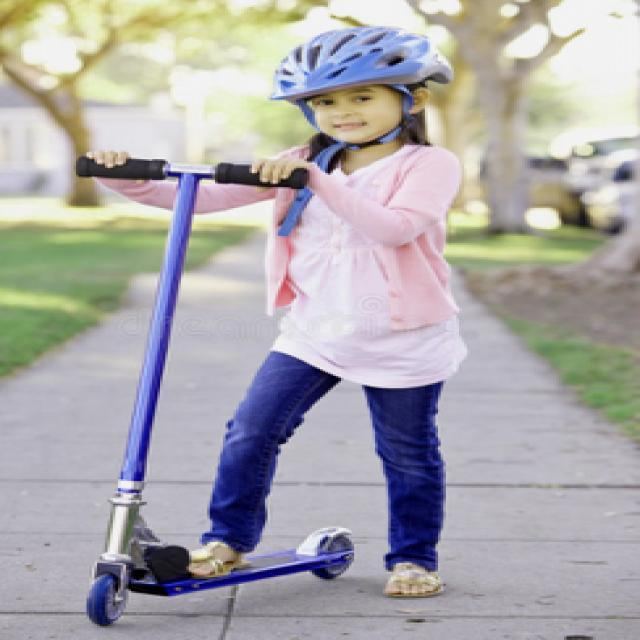Helmet: (262, 24, 462, 152)
